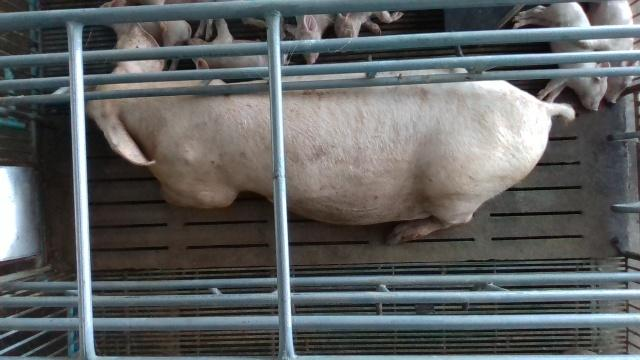piglet: (512, 2, 611, 112), (98, 1, 192, 71), (580, 0, 637, 105), (188, 20, 290, 69), (285, 14, 335, 65), (335, 8, 405, 36)
sow-sit: (87, 22, 575, 247)
